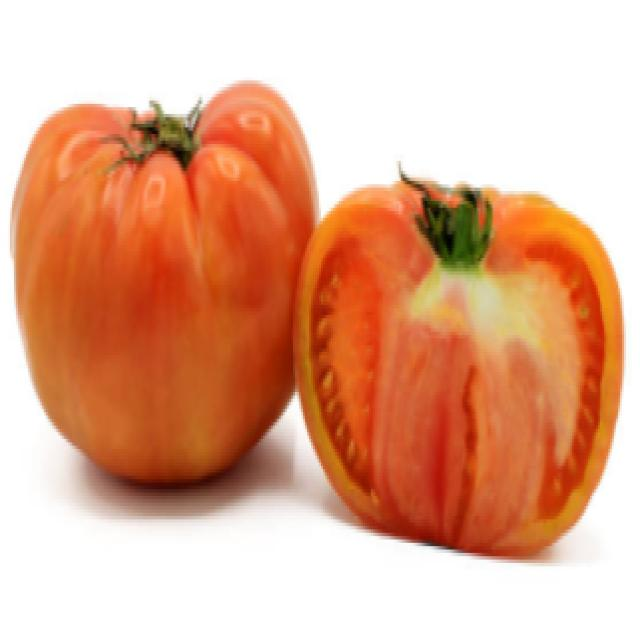Tomato: (292, 163, 625, 560), (19, 91, 314, 469)
